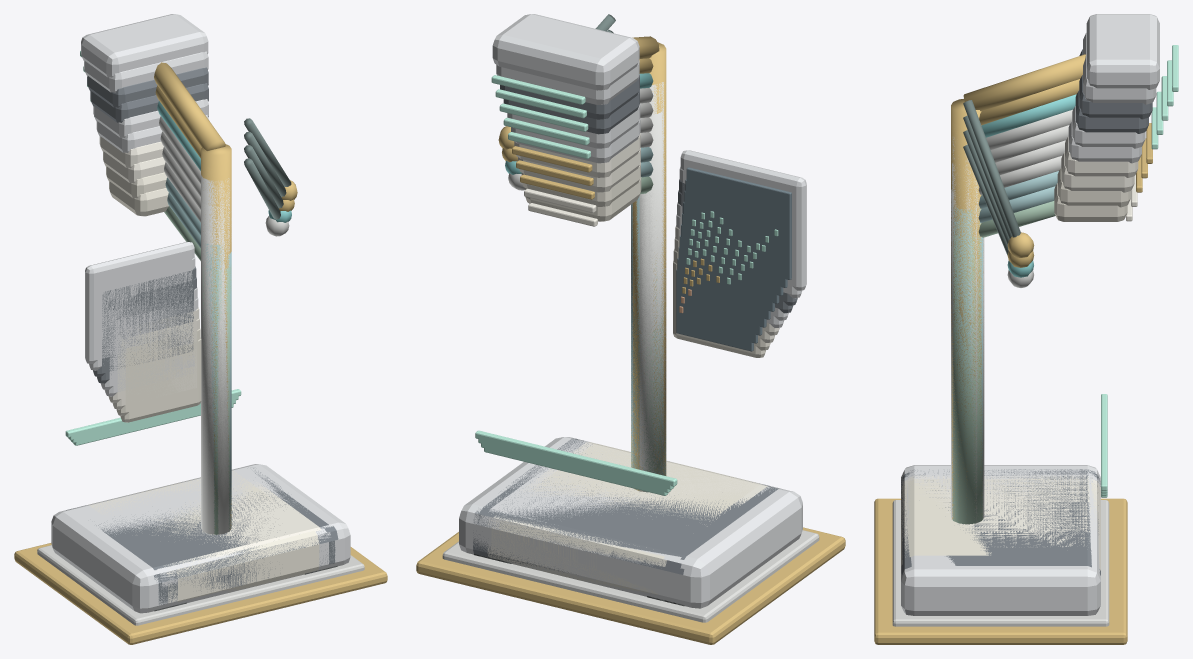
File: Gear20.fbx
3 renders of one model, left to right at view 1: azimuth 30°, elevation 25°; view 2: azimuth 150°, elevation 25°; view 3: azimuth 270°, elevation 25°, orthographic. The views are drawn at different scales.
Parts seen in each view (by area): view 1: Gear20_V10_Platinum, Gear20_V7_Graphite, Gear20_V9_Platinum, Gear20_V10_Gold, Gear20_V2_Ivory, Gear20_V1_Ivory, Gear20_V6_Chrome, Gear20_V4_Linen, Gear20_V6_Platinum, Gear20_V8_Graphite, Gear20_V9_Gold, Gear20_V4_Chrome (+18 smaller); view 2: Gear20_V10_Platinum, Gear20_V10_Gold, Gear20_V7_Graphite, Gear20_V2_Ivory, Gear20_V5_Platinum, Gear20_V10_Glass, Gear20_V8_Glass, Gear20_V4_Linen, Gear20_V4_Chrome, Gear20_V1_Ivory, Gear20_V3_Linen, Gear20_V10_Chrome (+25 smaller); view 3: Gear20_V10_Platinum, Gear20_V10_Gold, Gear20_V8_Graphite, Gear20_V1_Sage, Gear20_V9_Gold, Gear20_V4_Linen, Gear20_V2_Ivory, Gear20_V10_Chrome, Gear20_V3_Blue, Gear20_V4_Chrome, Gear20_V7_Chrome, Gear20_V9_Platinum (+15 smaller).
Boxes of the visible parts, bbox=[...] form: Gear20_V10_Platinum: bbox=[51, 14, 350, 613]; Gear20_V7_Graphite: bbox=[90, 83, 335, 605]; Gear20_V9_Platinum: bbox=[63, 51, 340, 608]; Gear20_V10_Gold: bbox=[14, 62, 387, 644]; Gear20_V2_Ivory: bbox=[89, 167, 319, 592]; Gear20_V1_Ivory: bbox=[88, 182, 314, 602]; Gear20_V6_Chrome: bbox=[150, 131, 349, 622]; Gear20_V4_Linen: bbox=[99, 136, 320, 603]; Gear20_V6_Platinum: bbox=[77, 99, 330, 587]; Gear20_V8_Graphite: bbox=[66, 67, 338, 582]; Gear20_V9_Gold: bbox=[21, 85, 381, 642]; Gear20_V4_Chrome: bbox=[158, 162, 343, 617]; Gear20_V10_Platinum: bbox=[459, 14, 806, 608]; Gear20_V10_Gold: bbox=[416, 36, 845, 644]; Gear20_V7_Graphite: bbox=[476, 89, 793, 574]; Gear20_V2_Ivory: bbox=[496, 162, 770, 558]; Gear20_V5_Platinum: bbox=[485, 118, 783, 602]; Gear20_V10_Glass: bbox=[686, 167, 791, 279]; Gear20_V8_Glass: bbox=[684, 190, 783, 295]; Gear20_V4_Linen: bbox=[487, 133, 779, 566]; Gear20_V4_Chrome: bbox=[467, 132, 686, 609]; Gear20_V1_Ivory: bbox=[499, 177, 765, 594]; Gear20_V3_Linen: bbox=[491, 147, 774, 581]; Gear20_V10_Chrome: bbox=[442, 531, 819, 622]; Gear20_V10_Platinum: bbox=[901, 14, 1159, 615]; Gear20_V10_Gold: bbox=[874, 54, 1127, 644]; Gear20_V8_Graphite: bbox=[901, 49, 1152, 574]; Gear20_V1_Sage: bbox=[952, 201, 1055, 524]; Gear20_V9_Gold: bbox=[875, 79, 1127, 634]; Gear20_V4_Linen: bbox=[901, 136, 1138, 570]; Gear20_V2_Ivory: bbox=[901, 168, 1130, 566]; Gear20_V10_Chrome: bbox=[892, 500, 1109, 626]; Gear20_V3_Blue: bbox=[952, 171, 1058, 513]; Gear20_V4_Chrome: bbox=[892, 156, 1109, 611]; Gear20_V7_Chrome: bbox=[892, 109, 1108, 616]; Gear20_V9_Platinum: bbox=[901, 33, 1156, 578].
Size of the model in its own units: 99.12 by 179 by 91.36.
